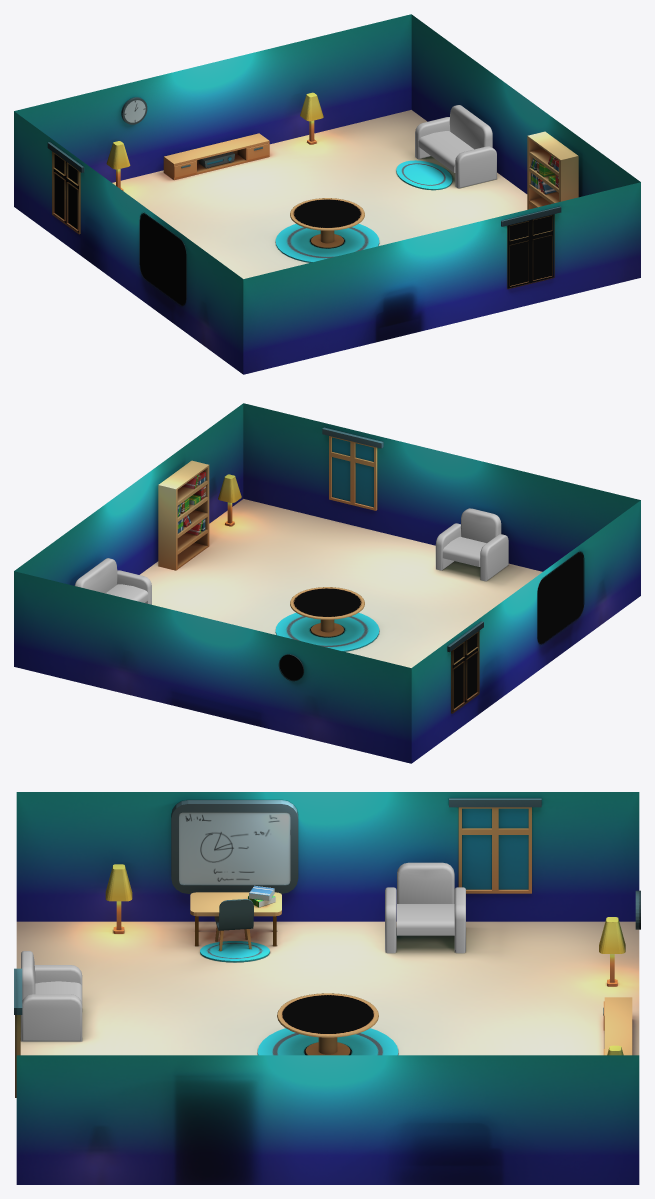
The model's file is total_with_probs.fbx.
3 renders of one model, top to bottom at view 1: azimuth 30°, elevation 25°; view 2: azimuth 150°, elevation 25°; view 3: azimuth 270°, elevation 25°, orthographic. The views are drawn at different scales.
Visible parts, largest first — view 1: room.001, sofa_03, shelf, radio_table, main_table, carpat_02, carpat_03, window_01, window_02, lamp_01, lamp_02, wall_clock; view 2: room.001, shelf, sofa_01, window_02, main_table, carpat_02, sofa_03, window_01, lamp_03; view 3: room.001, white_board, window_01, sofa_02, sofa_01, main_table, carpat_02, study_table, radio_table, chair, carpat_01, lamp_04 (+2 smaller).
Boxes of the visible parts, x1,y1,x2,y2 form: room.001: (14,14,640,374); sofa_03: (415,105,496,188); shelf: (527,131,578,209); radio_table: (163,133,269,179); main_table: (290,198,364,247); carpat_02: (275,223,379,262); carpat_03: (396,160,452,190); window_01: (47,142,84,234); window_02: (501,206,561,289); lamp_01: (300,92,323,144); lamp_02: (106,141,130,190); wall_clock: (121,97,147,124); room.001: (14,403,640,763); shelf: (158,460,209,570); sofa_01: (435,508,508,581); window_02: (322,427,383,510); main_table: (290,587,364,636); carpat_02: (275,612,379,651); sofa_03: (74,558,151,604); window_01: (447,621,483,713); lamp_03: (218,474,241,526); room.001: (16,792,639,1184); white_board: (171,800,298,893); window_01: (449,798,541,893); sofa_02: (385,862,465,953); sofa_01: (21,951,82,1041); main_table: (277,993,378,1055); carpat_02: (257,1028,398,1055); study_table: (190,892,281,946); radio_table: (603,997,632,1055); chair: (214,899,253,951); carpat_01: (200,941,269,962); lamp_04: (105,864,132,933).
Size of the model in its own units: 2631 by 607 by 2634.
